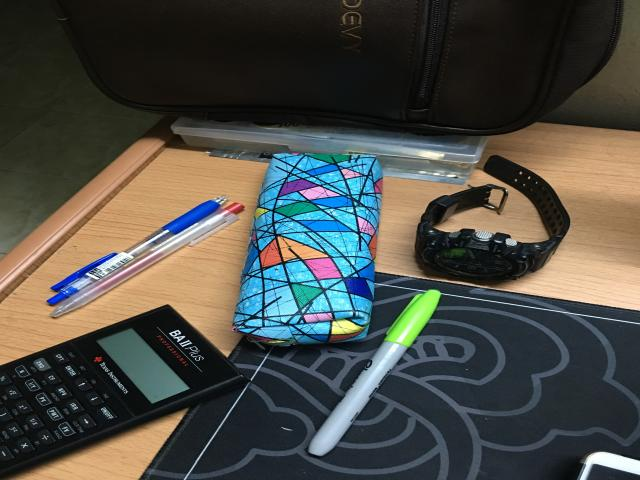Mobile phone: (577, 452, 640, 480)
Pen: (47, 198, 243, 320), (308, 290, 440, 456)
Watch: (415, 156, 570, 280)
